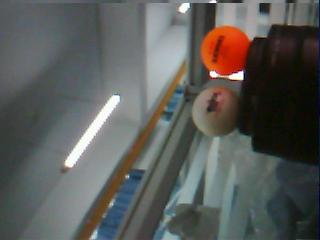oball: (200, 26, 252, 74)
